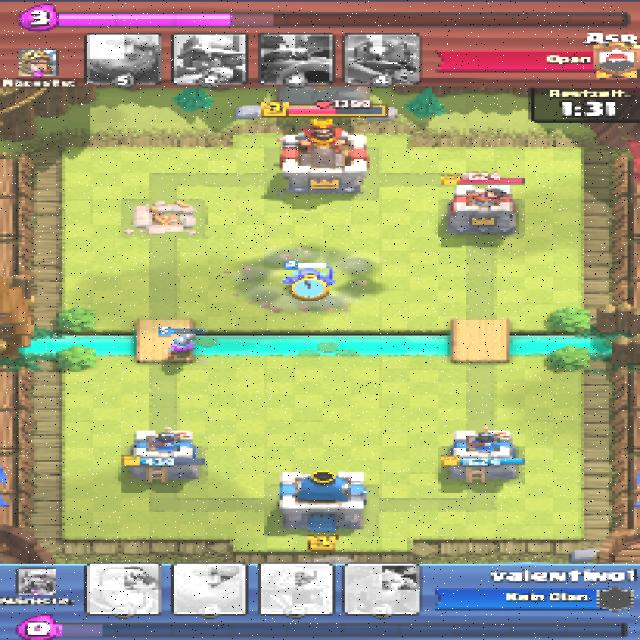Player-MiniPEKKA: (280, 269, 334, 297)
Player-Musketeer: (168, 331, 197, 361)
